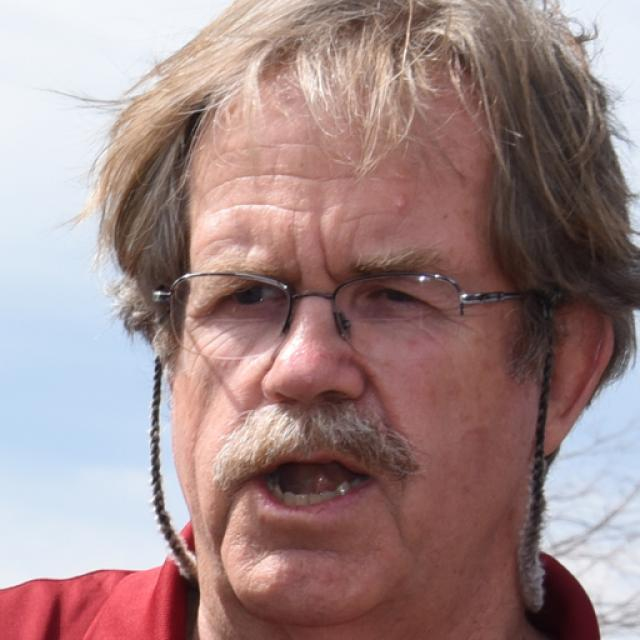Acne: (299, 373, 321, 390), (393, 196, 412, 210)
Wrinkle: (195, 169, 408, 222), (362, 362, 408, 493), (208, 197, 322, 220), (345, 207, 404, 224)
